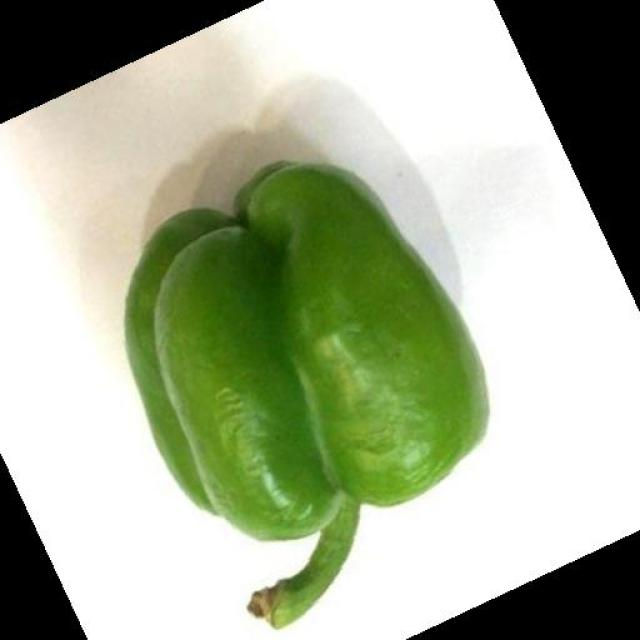Fresh_Capsicum: (101, 128, 484, 581)
